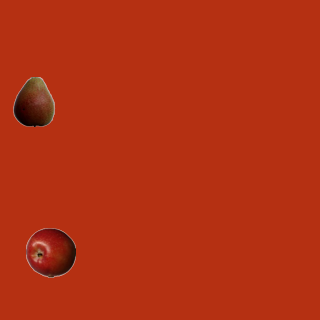Apple Braeburn: (25, 227, 75, 277)
Pear Forelle: (8, 76, 58, 126)
